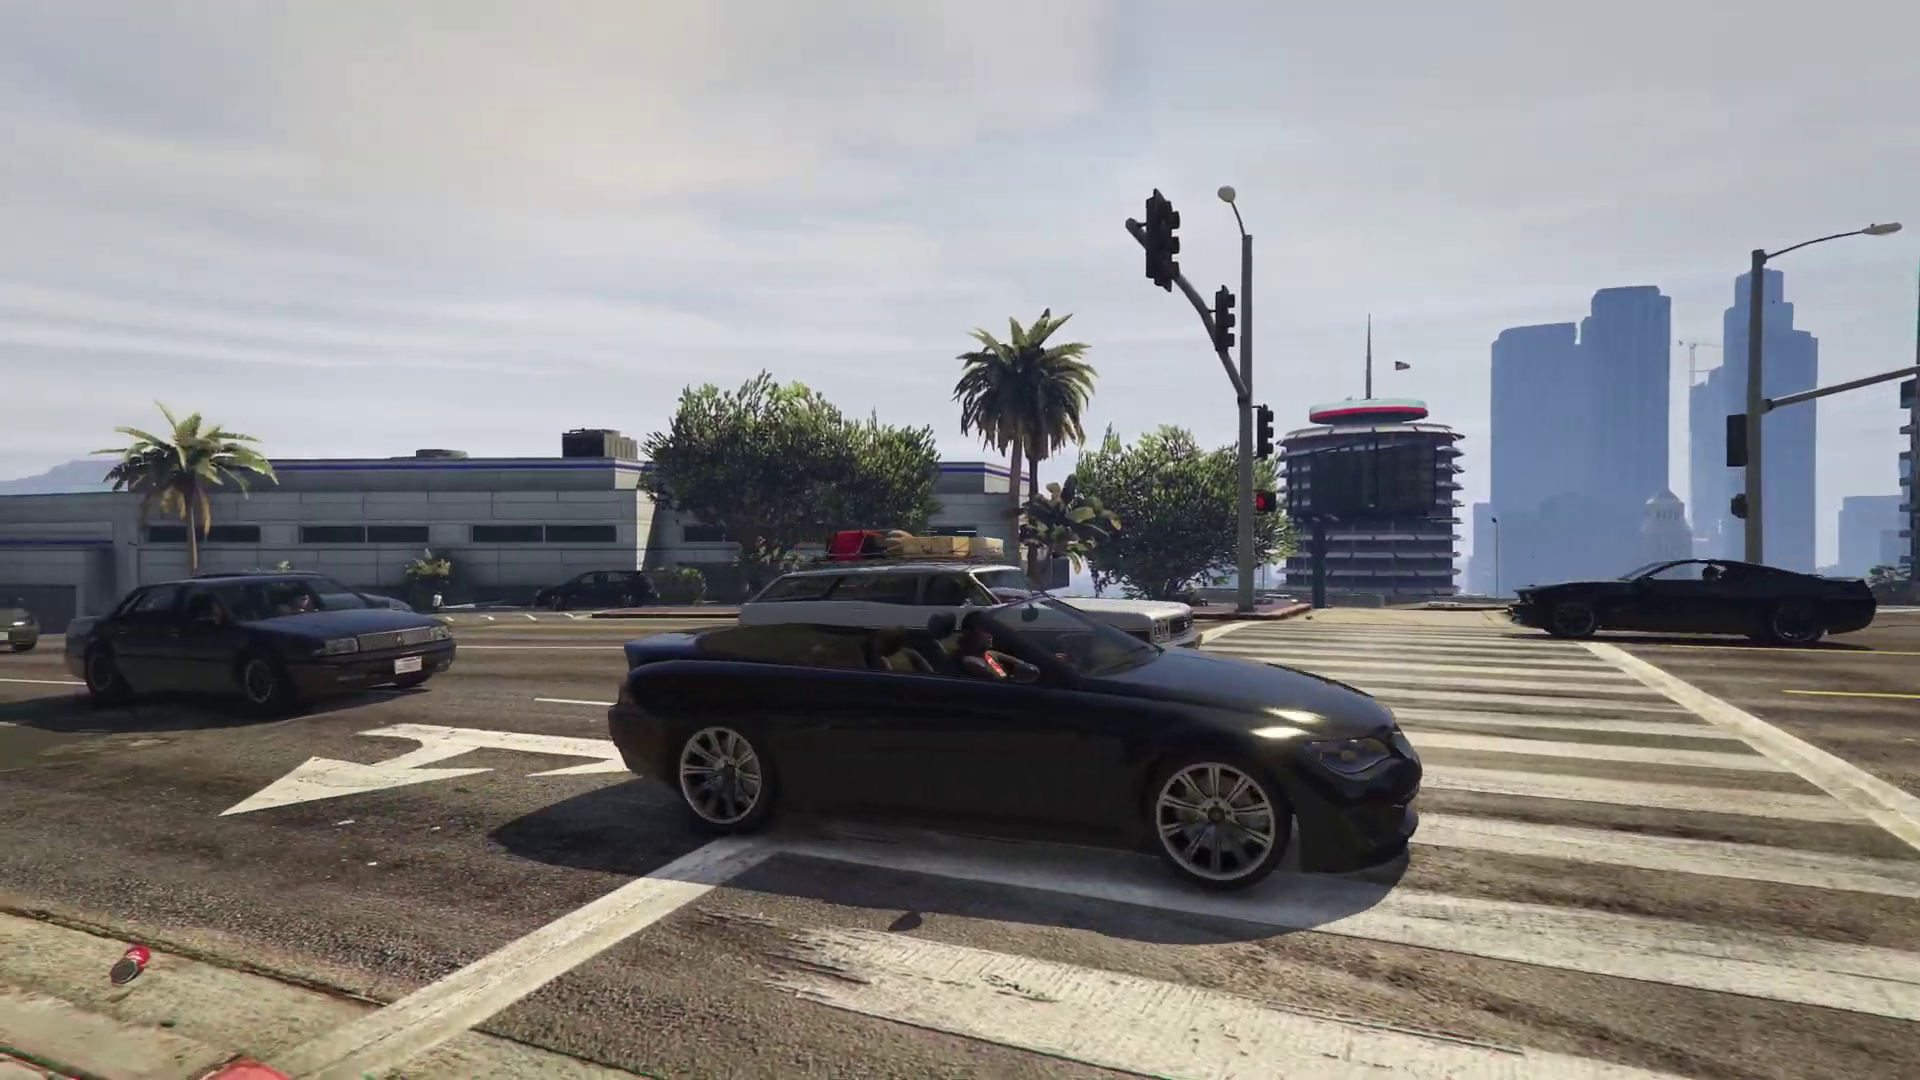car: (608, 602, 1422, 882), (63, 575, 455, 705), (745, 567, 1201, 652), (1506, 555, 1877, 642), (532, 569, 663, 611), (1, 595, 44, 649)
person: (955, 611, 1077, 689)
traffic light: (1145, 191, 1179, 292), (1213, 285, 1234, 357), (1725, 414, 1748, 470), (1257, 404, 1273, 461), (1255, 487, 1274, 516), (1733, 492, 1746, 518)
